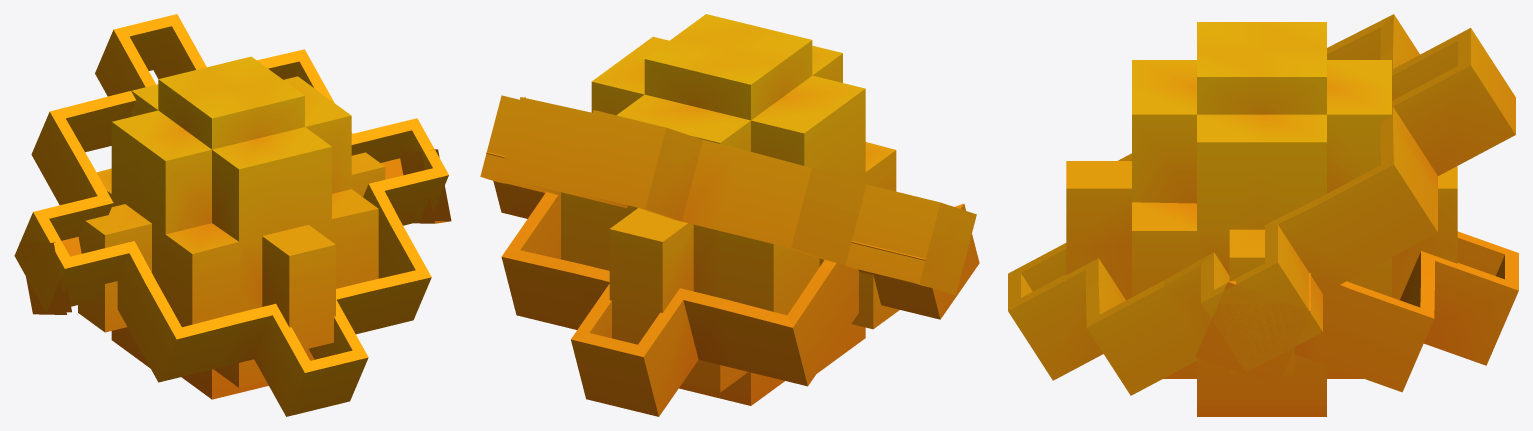
The model's file is Egg Legendary.fbx.
The picture shows the model from 3 angles, left to right: view 1: azimuth 30°, elevation 25°; view 2: azimuth 150°, elevation 25°; view 3: azimuth 270°, elevation 25°; orthographic projection. The views are drawn at different scales.
Visible parts, largest first — view 1: Egg Legendary; view 2: Egg Legendary; view 3: Egg Legendary.
Part boxes in pixels (x1=…): Egg Legendary: x1=14, y1=14, x2=451, y2=416; Egg Legendary: x1=480, y1=14, x2=979, y2=416; Egg Legendary: x1=1008, y1=14, x2=1518, y2=416.
Bounding box in the file's own units: 5.62 × 3.96 × 5.35.
